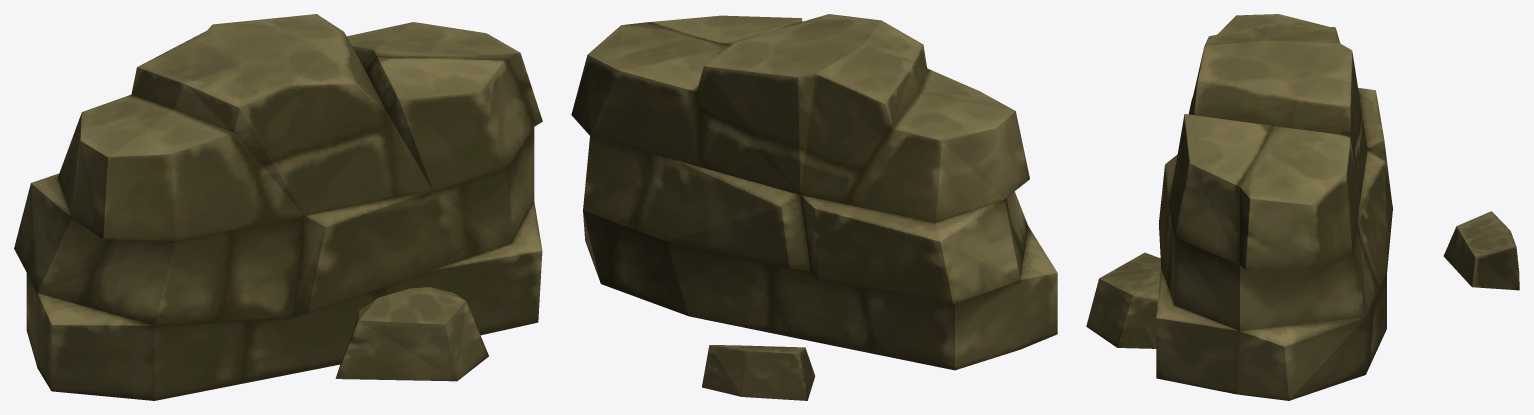
Rendered from rockwall_straight_01.fbx.
3 views of the same model, side by side, from view 1: azimuth 30°, elevation 25°; view 2: azimuth 150°, elevation 25°; view 3: azimuth 270°, elevation 25° (orthographic). The views are drawn at different scales.
Visible parts, largest first — view 1: obj0.142; view 2: obj0.142; view 3: obj0.142.
Boxes of the visible parts, x1,y1,x2,y2 form: obj0.142: [14, 14, 542, 400]; obj0.142: [571, 14, 1057, 400]; obj0.142: [1086, 14, 1519, 400].
Size of the model in its own units: 4.45 by 2.34 by 3.87.
